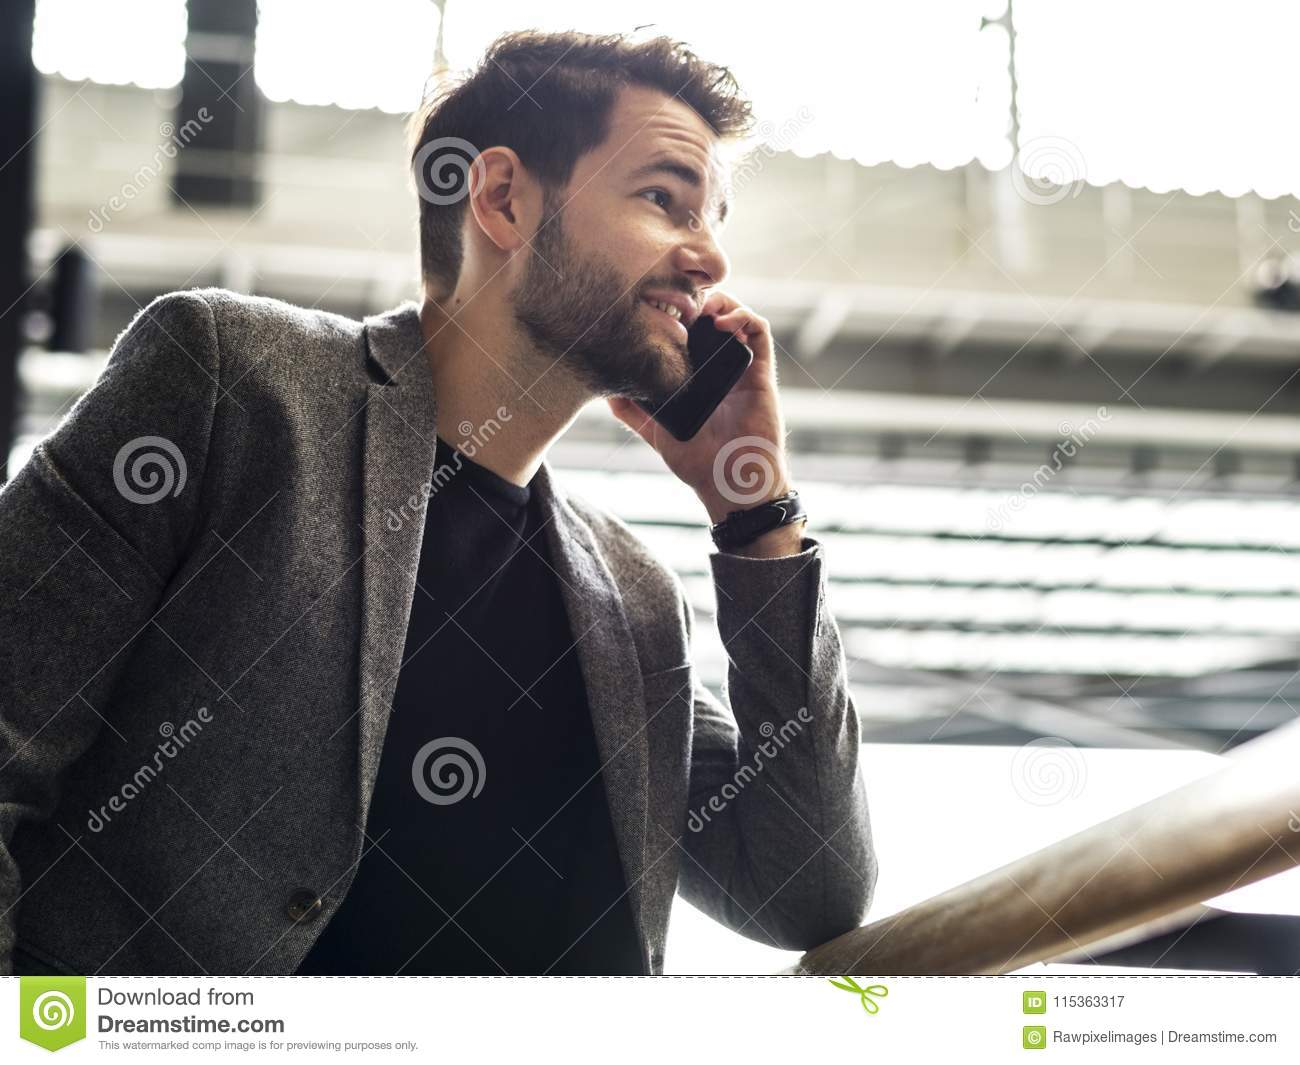phone: (634, 309, 760, 440)
talk: (594, 143, 785, 516)
